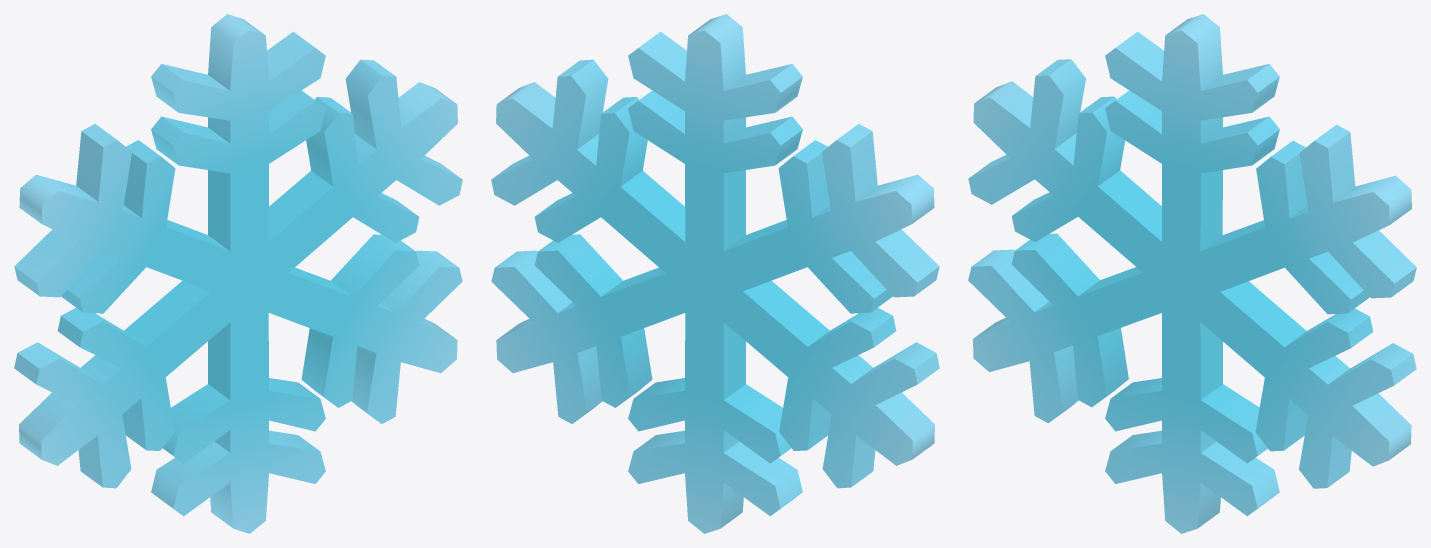
File: snowflake_001.glb
3 views of the same model, side by side, from view 1: azimuth 30°, elevation 25°; view 2: azimuth 150°, elevation 25°; view 3: azimuth 330°, elevation 25° (orthographic).
Visible parts, largest first — view 1: snowflake_001; view 2: snowflake_001; view 3: snowflake_001.
Boxes of the visible parts, x1=… form: snowflake_001: x1=14, y1=14, x2=462, y2=533; snowflake_001: x1=491, y1=14, x2=939, y2=533; snowflake_001: x1=968, y1=14, x2=1416, y2=533.
Bounding box in the file's own units: 1.51 × 1.7 × 0.1364.
Materials: 1 (1 with a texture image).
